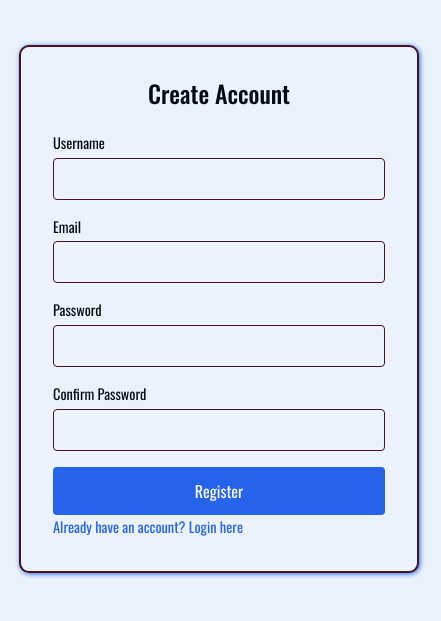
Scenario: RegisterForm › shows error message when registration fails
This screenshot has width=441, height=621.
Type "testuser" into the field labelled "Username" at (219, 179), box x1=53 y1=158 x2=385 y2=200
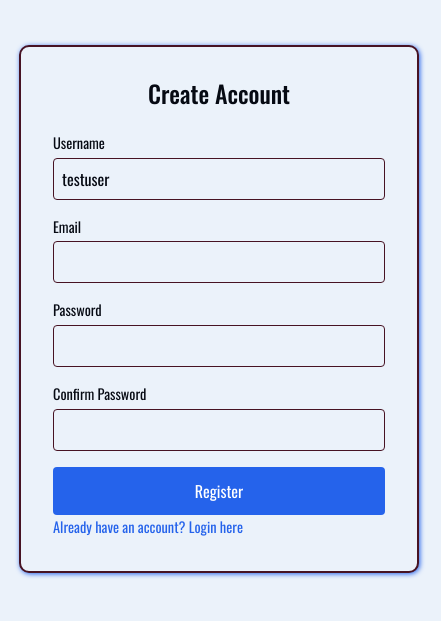
Type "test@example.com" into the field labelled "Email" at (219, 262), box x1=53 y1=241 x2=385 y2=283
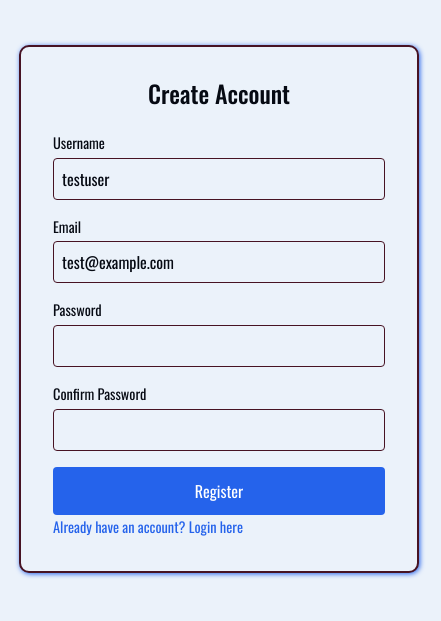
Type "password123" into the password field labelled "Password" at (219, 346), box x1=53 y1=325 x2=385 y2=367
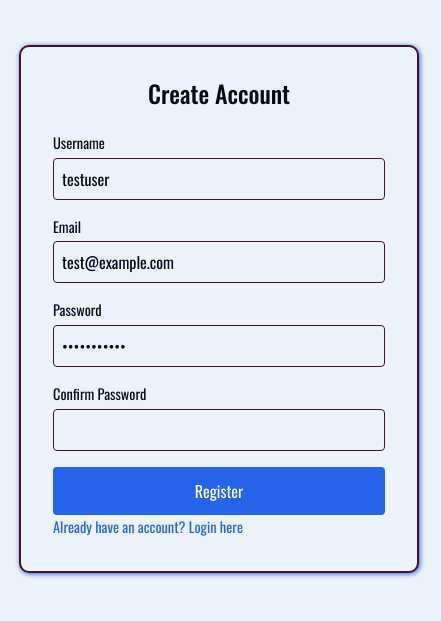
Type "password123" into the password field labelled "Confirm Password" at (219, 430), box x1=53 y1=409 x2=385 y2=451
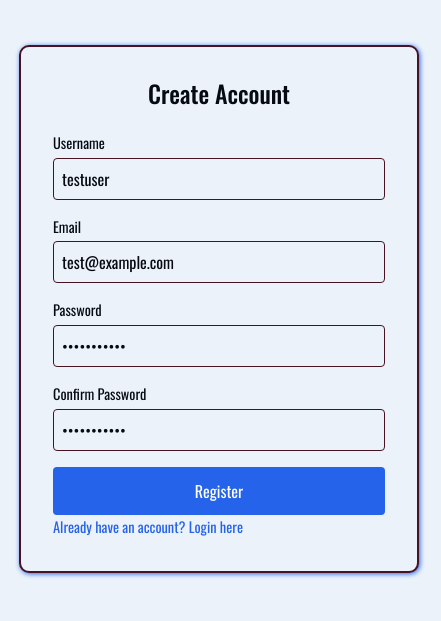
Submit the form from the button "Register", box x1=53 y1=467 x2=385 y2=515
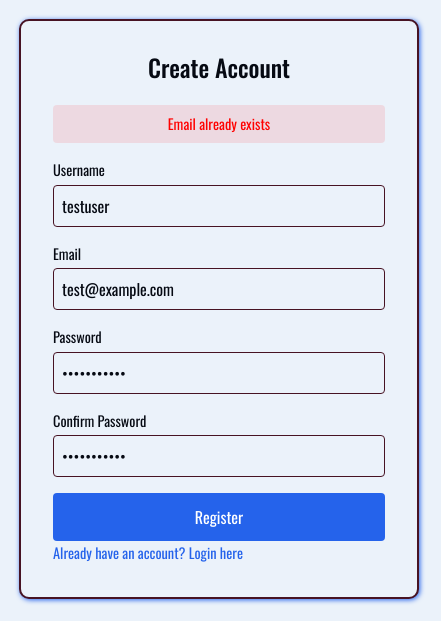
Expected: the text "Email already exists" is shown, x1=53 y1=105 x2=385 y2=143
